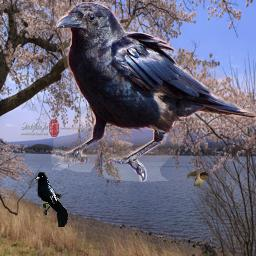Crow: (51, 2, 256, 182), (35, 172, 68, 227)
Swallow: (186, 169, 209, 187)
